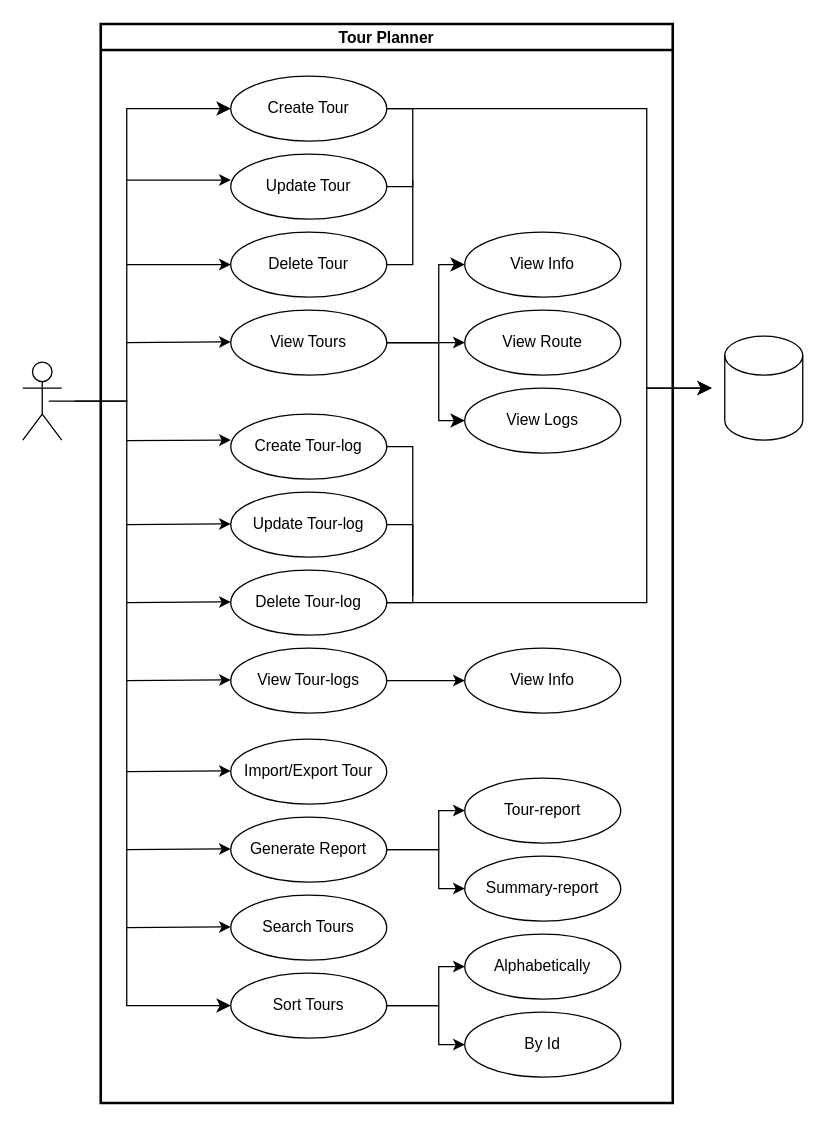
Some shapes in this 826 by 1126 pixel diagram are drawn without their labels. Here are the shapes that lost their labels. From the top down, the box of each, then its label:
(21, 361, 62, 440): User
(723, 335, 803, 440): DB
